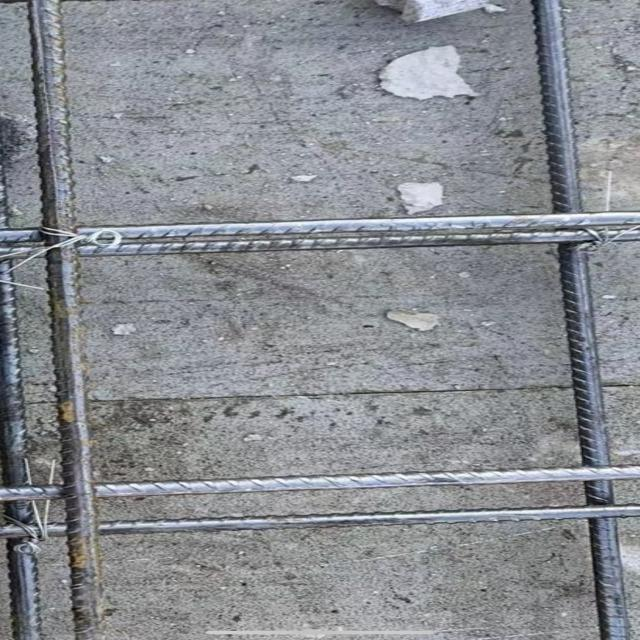ribbed bar: (525, 0, 638, 639), (21, 0, 116, 639), (0, 461, 638, 503), (0, 501, 638, 538), (0, 207, 638, 242), (0, 227, 638, 261), (0, 264, 54, 640)
